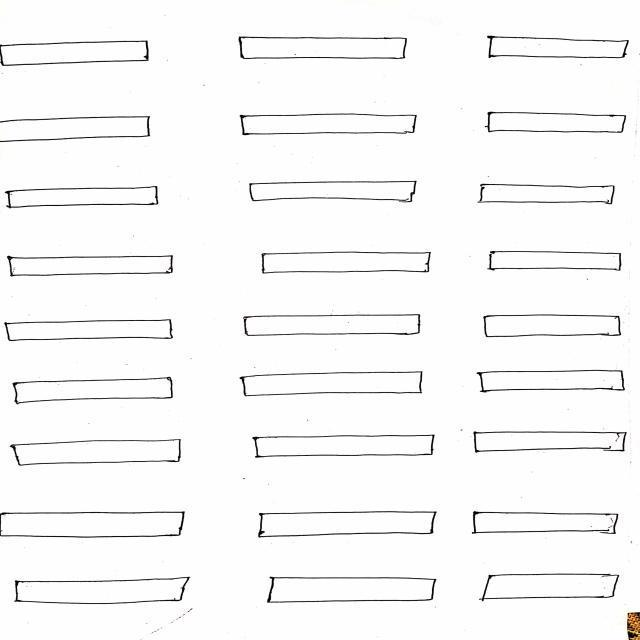textbox: (1, 506, 191, 545), (225, 368, 441, 402), (6, 370, 180, 412), (1, 575, 209, 609), (1, 112, 171, 150), (237, 432, 445, 463), (248, 509, 447, 541), (5, 438, 197, 471), (255, 248, 444, 281), (255, 574, 440, 607), (236, 34, 417, 67), (471, 570, 631, 607), (1, 253, 195, 283), (227, 113, 438, 140), (237, 313, 432, 342), (466, 508, 632, 541), (241, 179, 434, 207), (480, 31, 633, 66), (477, 311, 637, 344), (1, 317, 188, 345), (466, 367, 633, 398), (464, 429, 636, 459), (1, 184, 180, 212), (481, 108, 632, 141), (1, 38, 161, 69), (469, 180, 632, 210), (479, 249, 640, 277)
